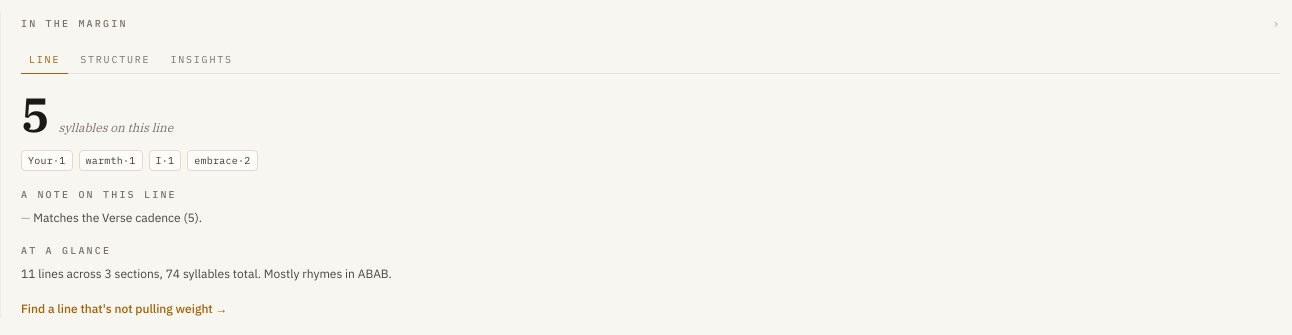
Scenario: MarginRail › lists insights on the Insights tab
This screenshot has width=1292, height=335.
Click the tab "Insights": coordinates (202, 62) top-left (162, 52), bottom-right (241, 74)
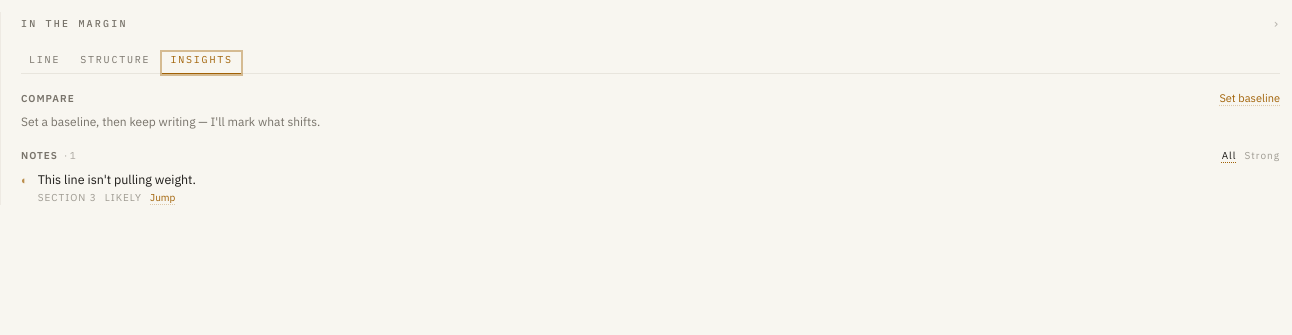
Now the text "This line isn't pulling weight." is shown, box top-left (38, 170), bottom-right (196, 186)
